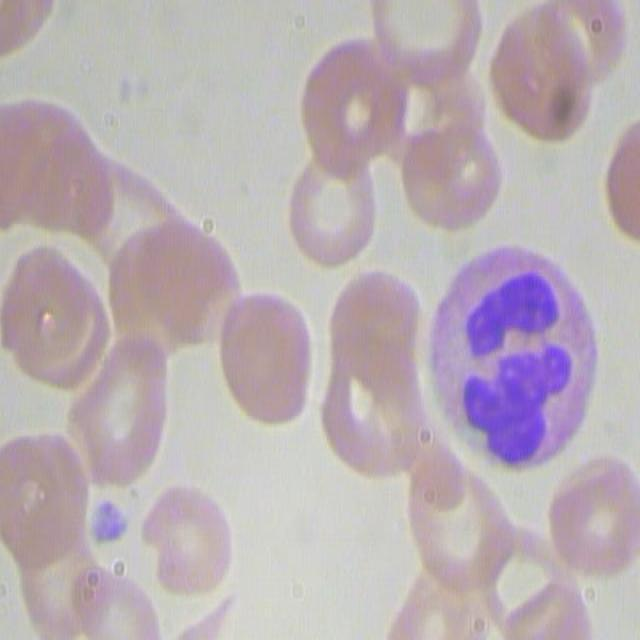RBC: (325, 258, 428, 491), (98, 192, 238, 358), (4, 235, 110, 396), (0, 91, 112, 240), (490, 0, 602, 144), (405, 446, 513, 592), (299, 32, 404, 171), (214, 286, 317, 426), (74, 335, 168, 486), (545, 443, 639, 588), (394, 124, 501, 238), (284, 154, 379, 272), (4, 433, 96, 552), (150, 484, 240, 602), (362, 0, 485, 86), (384, 575, 490, 640), (72, 570, 162, 640), (605, 110, 640, 248)
WBC: (427, 243, 603, 497)
platelets: (84, 493, 136, 553)
